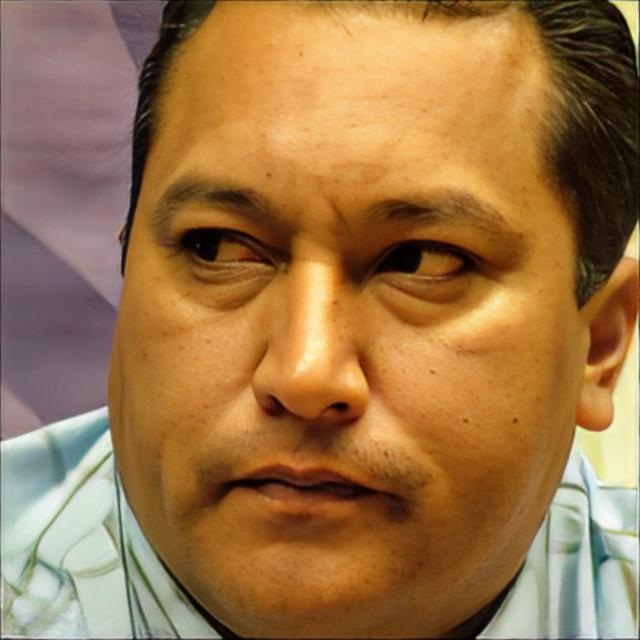anger: (121, 6, 564, 611)
